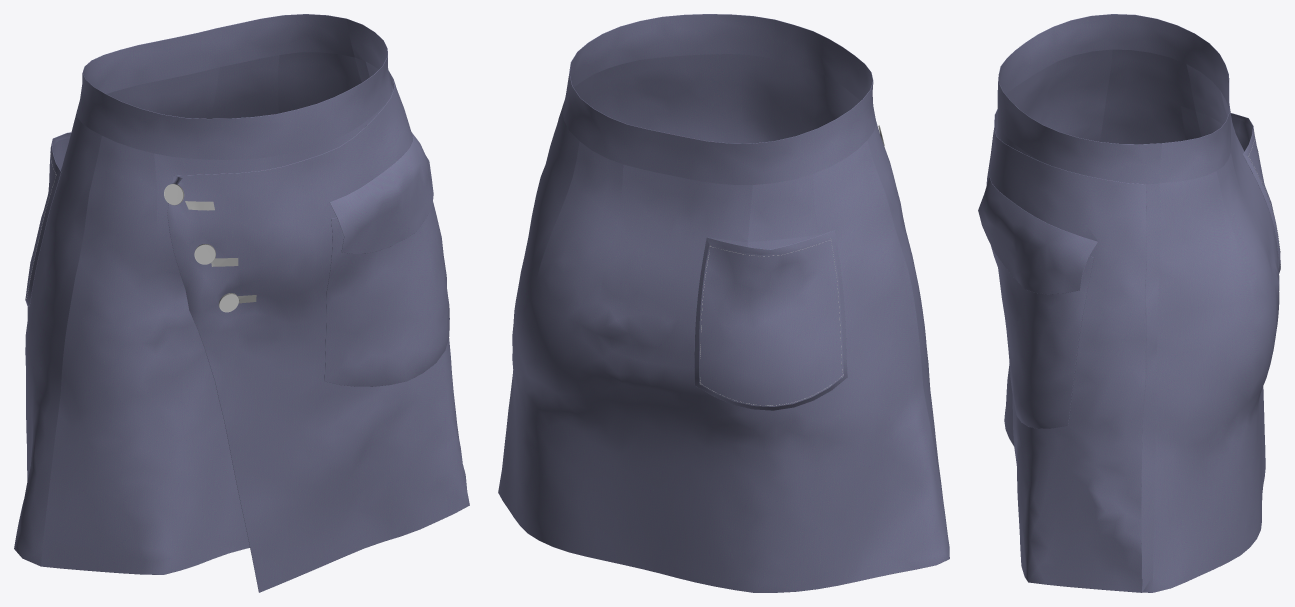
3 renders of one model, left to right at view 1: azimuth 30°, elevation 25°; view 2: azimuth 150°, elevation 25°; view 3: azimuth 270°, elevation 25°, orthographic. The views are drawn at different scales.
Parts seen in each view (by area): view 1: Pattern2D_447218, Pattern2D_50967, Pattern2D_215201, SKIRT1WAB, Pattern2D_447219, Pattern2D_447220, Pattern2D_447221; view 2: Pattern2D_215201, SKIRT1WAB, Pattern2D_447221, Pattern2D_50967; view 3: Pattern2D_215201, Pattern2D_447218, SKIRT1WAB, Pattern2D_50967, Pattern2D_447219, Pattern2D_447220, Pattern2D_447221.
Part boxes in pixels (left/top/right/bottom): Pattern2D_447218: left=167, top=71, right=469, bottom=592; Pattern2D_50967: left=41, top=57, right=393, bottom=574; Pattern2D_215201: left=14, top=52, right=361, bottom=566; SKIRT1WAB: left=77, top=14, right=391, bottom=159; Pattern2D_447219: left=324, top=202, right=449, bottom=386; Pattern2D_447220: left=330, top=132, right=433, bottom=253; Pattern2D_447221: left=25, top=132, right=71, bottom=306; Pattern2D_215201: left=498, top=103, right=949, bottom=592; SKIRT1WAB: left=562, top=14, right=876, bottom=184; Pattern2D_447221: left=694, top=230, right=847, bottom=410; Pattern2D_50967: left=574, top=54, right=944, bottom=511; Pattern2D_215201: left=1100, top=49, right=1279, bottom=592; Pattern2D_447218: left=986, top=109, right=1146, bottom=592; SKIRT1WAB: left=997, top=14, right=1230, bottom=184; Pattern2D_50967: left=996, top=49, right=1160, bottom=592; Pattern2D_447219: left=991, top=246, right=1093, bottom=428; Pattern2D_447220: left=978, top=177, right=1097, bottom=294; Pattern2D_447221: left=1230, top=113, right=1280, bottom=273.
Bounding box in the file's own units: 45.73 × 49.51 × 29.95.
